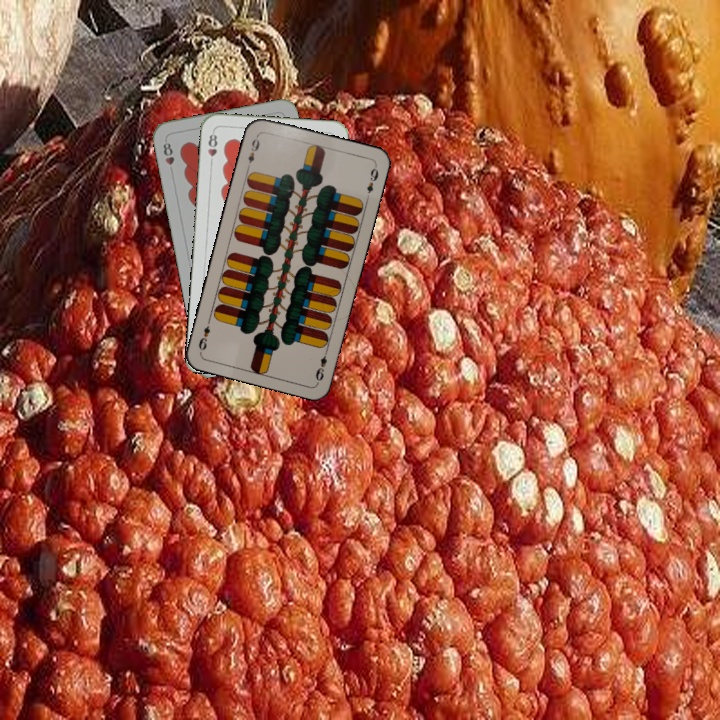E9: (243, 131, 262, 171), (311, 345, 331, 383)
H8: (159, 136, 177, 176), (204, 127, 220, 168)
